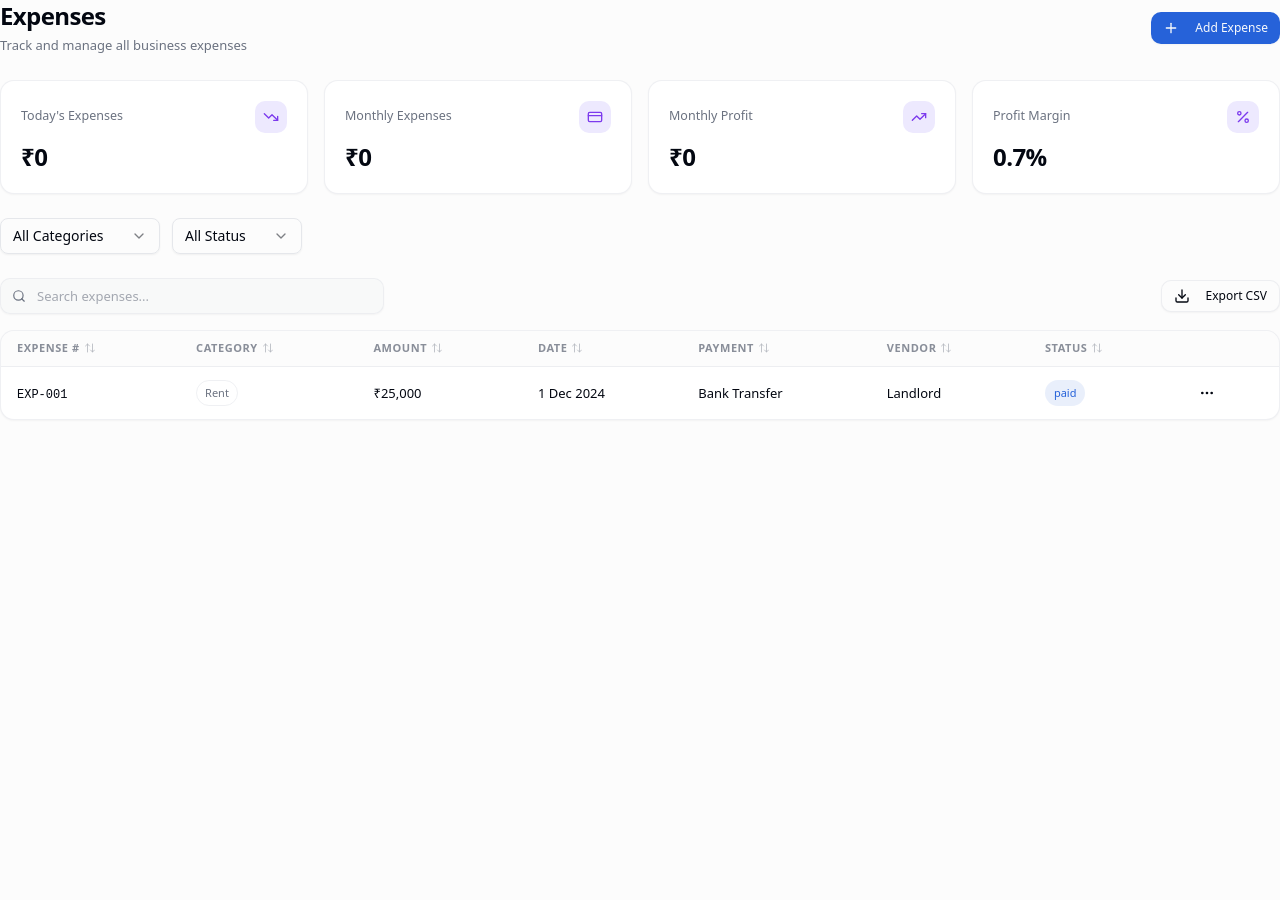
ExpensesPage › opens add expense dialog
Click the button "Add Expense": [1216, 28] box [1151,12,1279,44]
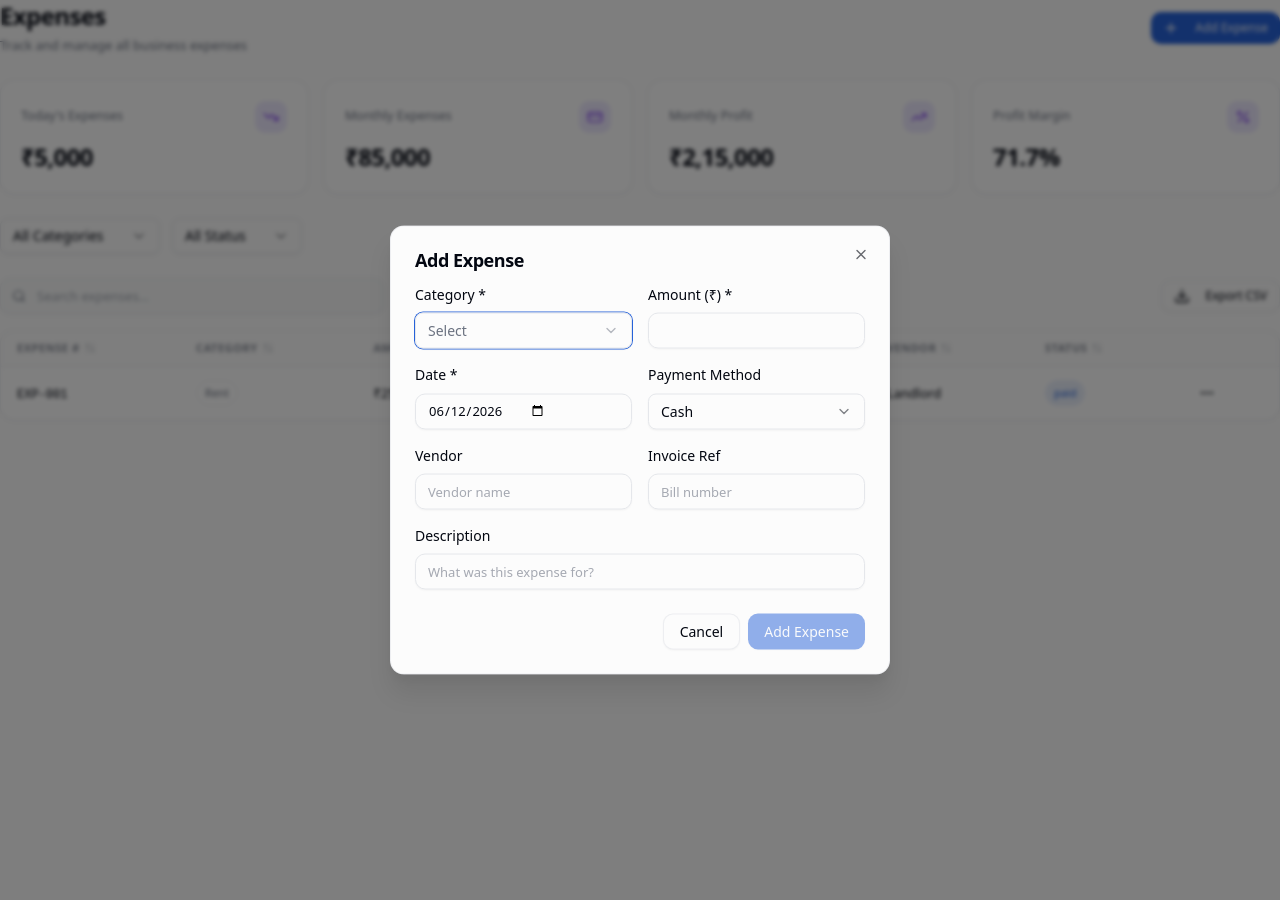
Expected: the text "Amount (₹) *" is shown, [648,284,732,304]
